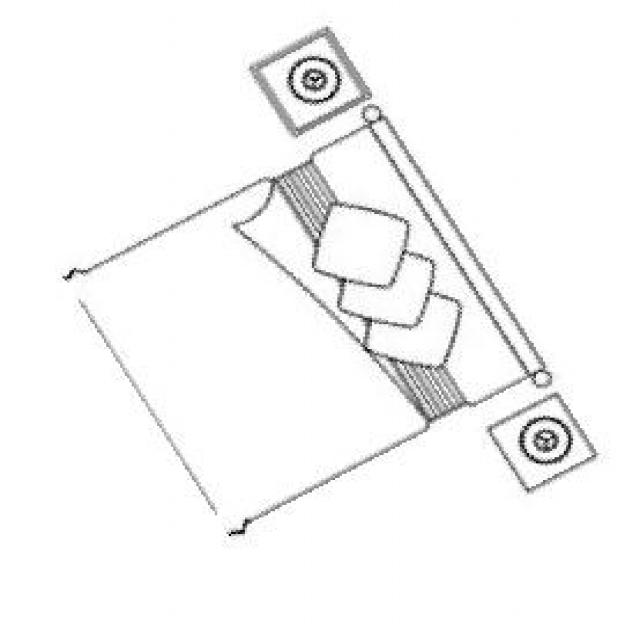bed: (62, 25, 596, 540)
